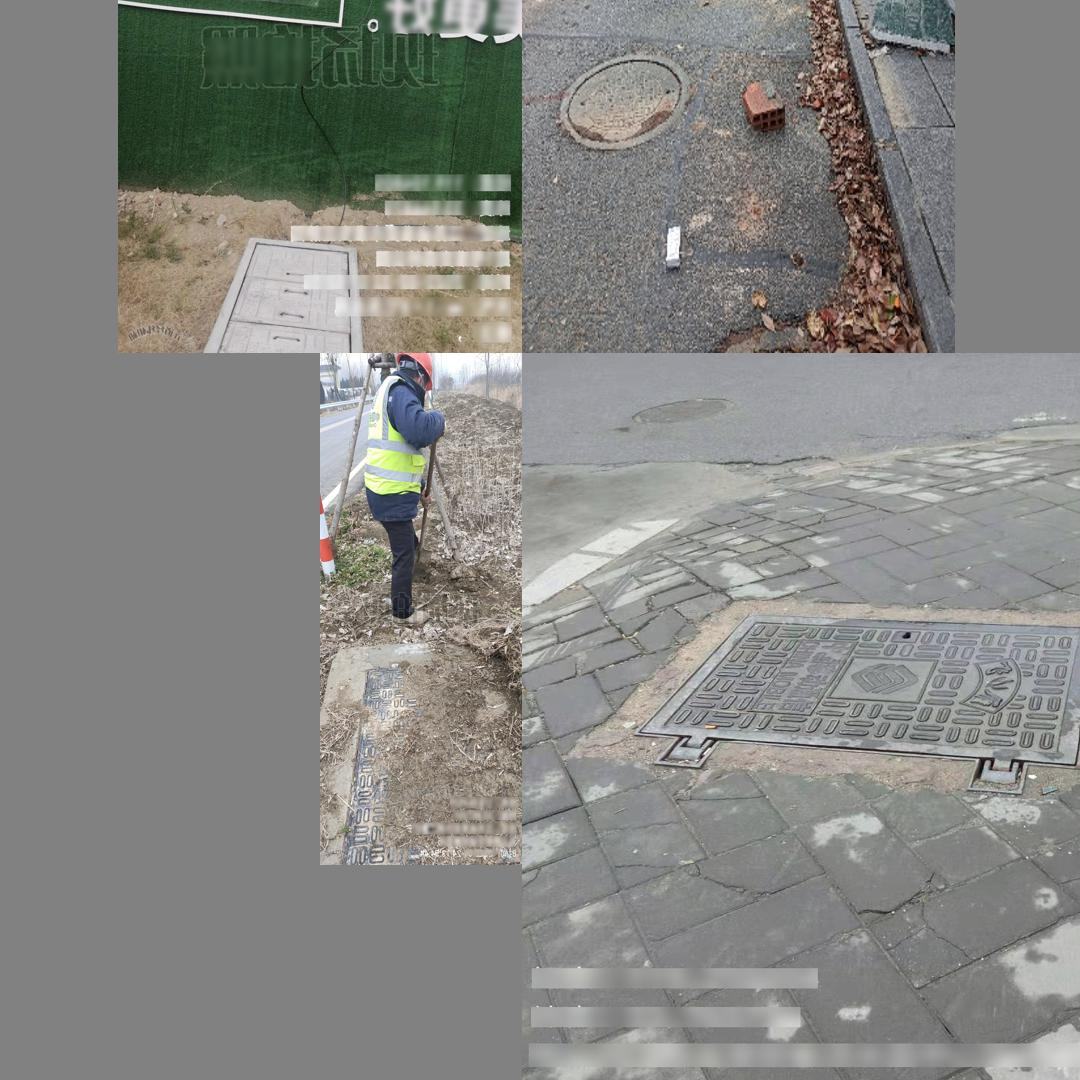good: (629, 610, 1080, 796), (340, 661, 517, 865), (202, 235, 365, 353), (559, 53, 689, 147)
